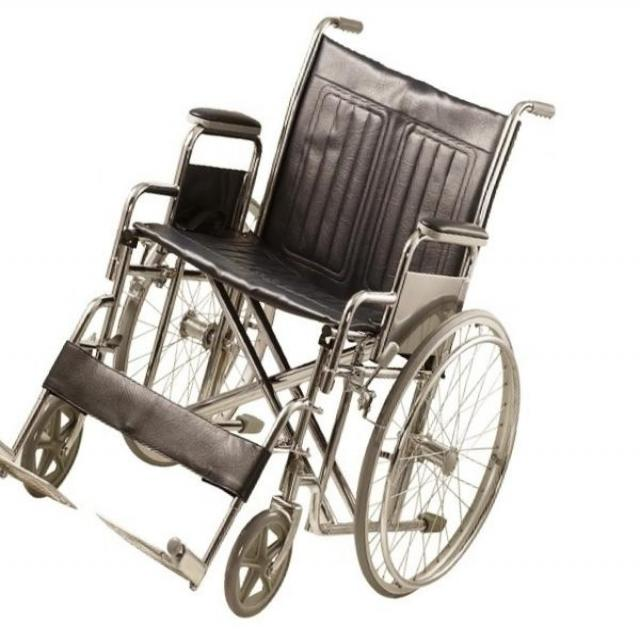wheelchair: (0, 11, 561, 624)
